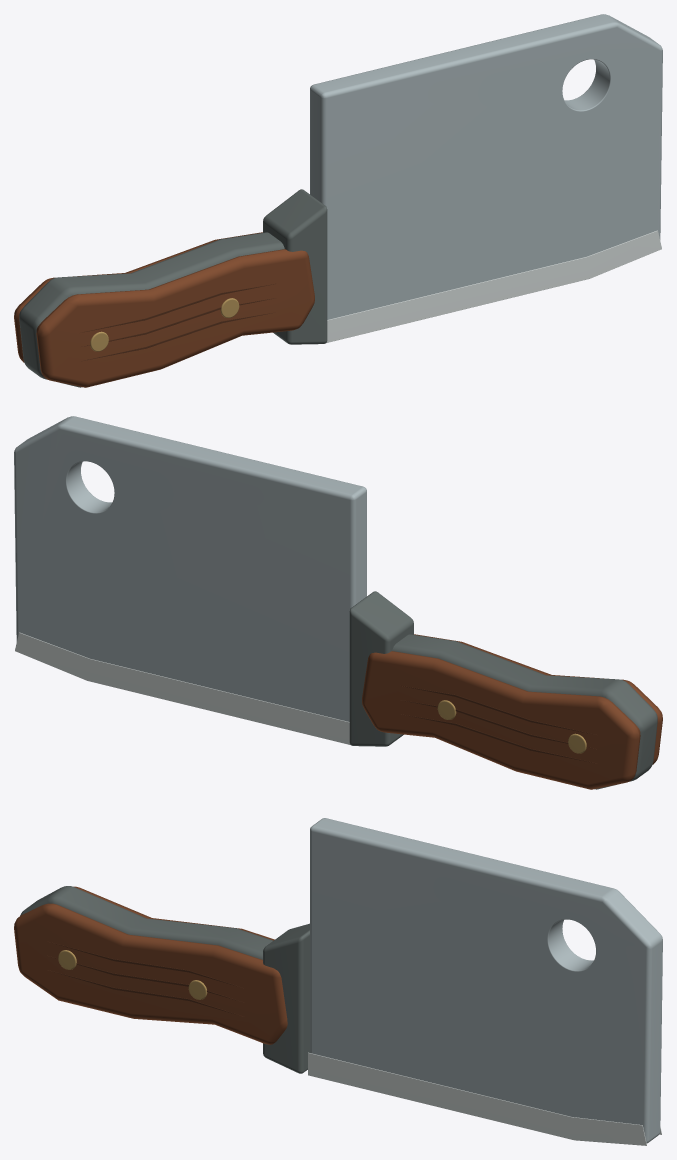
File: cleaver.glb
3 views of the same model, one above another, from view 1: azimuth 30°, elevation 25°; view 2: azimuth 150°, elevation 25°; view 3: azimuth 330°, elevation 25° (orthographic).
Parts seen in each view (by area): view 1: Heavy rectangular Cleaver blade, Sculpted burnt-umber Cleaver scale, Full heavy dark Cleaver tang, Heavy double-sided Cleaver bevel, Quiet modeled Cleaver wood grain, Two flush Cleaver brass rivets; view 2: Heavy rectangular Cleaver blade, Sculpted burnt-umber Cleaver scale, Full heavy dark Cleaver tang, Heavy double-sided Cleaver bevel, Quiet modeled Cleaver wood grain, Two flush Cleaver brass rivets; view 3: Heavy rectangular Cleaver blade, Sculpted burnt-umber Cleaver scale, Full heavy dark Cleaver tang, Heavy double-sided Cleaver bevel, Quiet modeled Cleaver wood grain, Two flush Cleaver brass rivets.
Part boxes in pixels (x1,y1,x2,y2): Heavy rectangular Cleaver blade: (310,14,662,319); Sculpted burnt-umber Cleaver scale: (14,232,314,387); Full heavy dark Cleaver tang: (19,189,327,387); Heavy double-sided Cleaver bevel: (326,230,661,342); Quiet modeled Cleaver wood grain: (80,284,275,361); Two flush Cleaver brass rivets: (90,298,239,351); Heavy rectangular Cleaver blade: (14,416,366,721); Sculpted burnt-umber Cleaver scale: (362,634,662,789); Full heavy dark Cleaver tang: (349,591,657,789); Heavy double-sided Cleaver bevel: (15,632,350,744); Quiet modeled Cleaver wood grain: (401,686,596,763); Two flush Cleaver brass rivets: (437,700,586,753); Heavy rectangular Cleaver blade: (310,818,662,1143); Sculpted burnt-umber Cleaver scale: (14,886,287,1044); Full heavy dark Cleaver tang: (20,886,309,1073); Heavy double-sided Cleaver bevel: (308,1052,661,1145); Quiet modeled Cleaver wood grain: (47,941,243,1016); Two flush Cleaver brass rivets: (58,950,207,999).
Bounding box in the file's own units: 2.18 × 0.82 × 0.199.
